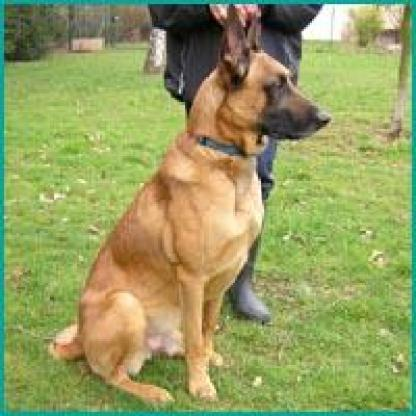malinois: (35, 2, 335, 406)
